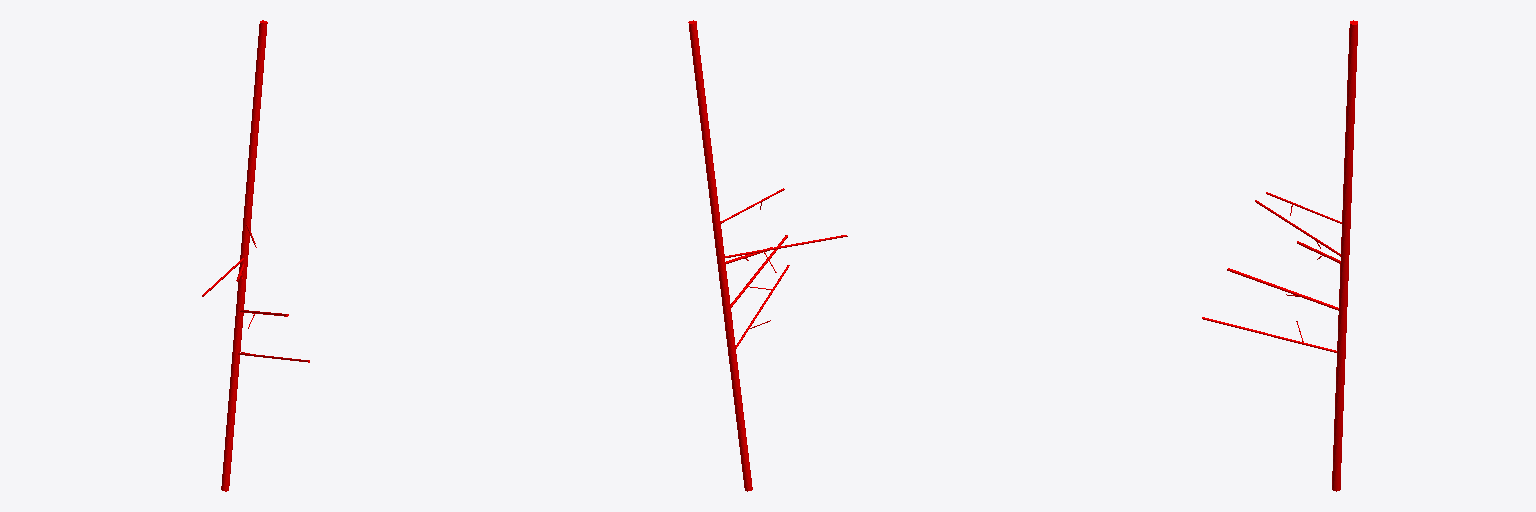
URDF robot description (tree_166.urdf):
<?xml version='1.0' encoding='UTF-8'?>
<robot name="tree_166.urdf">
  <link name="branch_0">
    <inertial>
      <origin xyz="0.0 0.0 0.0" rpy="0.0 -0.0 0.0"/>
      <mass value="0.1"/>
      <inertia ixx="0.001" ixy="0.0" ixz="0.0" iyy="0.001" iyz="0.0" izz="0.001"/>
    </inertial>
    <visual name="branch_0_visual">
      <geometry>
        <cylinder radius="0.08119482441836355" length="10.162189569916908"/>
      </geometry>
      <material name="semantic_material"/>
      <origin xyz="0.5473779555879732 0.16656126865366477 5.048777964146652" rpy="-6.638366721406252e-18 0.11284468723461562 0.2953872946657163"/>
    </visual>
    <collision name="branch_0_collision">
      <geometry>
        <cylinder radius="0.08119482441836355" length="10.162189569916908"/>
      </geometry>
      <origin xyz="0.5473779555879732 0.16656126865366477 5.048777964146652" rpy="-6.638366721406252e-18 0.11284468723461562 0.2953872946657163"/>
    </collision>
  </link>
  <link name="branch_1">
    <inertial>
      <origin xyz="0.0 0.0 0.0" rpy="0.0 -0.0 0.0"/>
      <mass value="0.1"/>
      <inertia ixx="0.001" ixy="0.0" ixz="0.0" iyy="0.001" iyz="0.0" izz="0.001"/>
    </inertial>
    <visual name="branch_1_visual">
      <geometry>
        <cylinder radius="0.028346276795149148" length="1.1056990333317804"/>
      </geometry>
      <material name="semantic_material"/>
      <origin xyz="0.0 0.0 0.0" rpy="0.0 -0.0 0.0"/>
    </visual>
    <collision name="branch_1_collision">
      <geometry>
        <cylinder radius="0.028346276795149148" length="1.1056990333317804"/>
      </geometry>
      <origin xyz="0.0 0.0 0.0" rpy="0.0 -0.0 0.0"/>
    </collision>
  </link>
  <link name="branch_2">
    <inertial>
      <origin xyz="0.0 0.0 0.0" rpy="0.0 -0.0 0.0"/>
      <mass value="0.1"/>
      <inertia ixx="0.001" ixy="0.0" ixz="0.0" iyy="0.001" iyz="0.0" izz="0.001"/>
    </inertial>
    <visual name="branch_2_visual">
      <geometry>
        <cylinder radius="0.01" length="0.1666999080371848"/>
      </geometry>
      <material name="semantic_material"/>
      <origin xyz="0.0 0.0 0.0" rpy="0.0 -0.0 0.0"/>
    </visual>
    <collision name="branch_2_collision">
      <geometry>
        <cylinder radius="0.01" length="0.1666999080371848"/>
      </geometry>
      <origin xyz="0.0 0.0 0.0" rpy="0.0 -0.0 0.0"/>
    </collision>
  </link>
  <link name="branch_3">
    <inertial>
      <origin xyz="0.0 0.0 0.0" rpy="0.0 -0.0 0.0"/>
      <mass value="0.1"/>
      <inertia ixx="0.001" ixy="0.0" ixz="0.0" iyy="0.001" iyz="0.0" izz="0.001"/>
    </inertial>
    <visual name="branch_3_visual">
      <geometry>
        <cylinder radius="0.028069722560075516" length="2.296371113001213"/>
      </geometry>
      <material name="semantic_material"/>
      <origin xyz="0.0 0.0 0.0" rpy="0.0 -0.0 0.0"/>
    </visual>
    <collision name="branch_3_collision">
      <geometry>
        <cylinder radius="0.028069722560075516" length="2.296371113001213"/>
      </geometry>
      <origin xyz="0.0 0.0 0.0" rpy="0.0 -0.0 0.0"/>
    </collision>
  </link>
  <link name="branch_4">
    <inertial>
      <origin xyz="0.0 0.0 0.0" rpy="0.0 -0.0 0.0"/>
      <mass value="0.1"/>
      <inertia ixx="0.001" ixy="0.0" ixz="0.0" iyy="0.001" iyz="0.0" izz="0.001"/>
    </inertial>
    <visual name="branch_4_visual">
      <geometry>
        <cylinder radius="0.01" length="0.5282364813976905"/>
      </geometry>
      <material name="semantic_material"/>
      <origin xyz="0.0 0.0 0.0" rpy="0.0 -0.0 0.0"/>
    </visual>
    <collision name="branch_4_collision">
      <geometry>
        <cylinder radius="0.01" length="0.5282364813976905"/>
      </geometry>
      <origin xyz="0.0 0.0 0.0" rpy="0.0 -0.0 0.0"/>
    </collision>
  </link>
  <link name="branch_5">
    <inertial>
      <origin xyz="0.0 0.0 0.0" rpy="0.0 -0.0 0.0"/>
      <mass value="0.1"/>
      <inertia ixx="0.001" ixy="0.0" ixz="0.0" iyy="0.001" iyz="0.0" izz="0.001"/>
    </inertial>
    <visual name="branch_5_visual">
      <geometry>
        <cylinder radius="0.019411540092503184" length="1.6714939882122033"/>
      </geometry>
      <material name="semantic_material"/>
      <origin xyz="0.0 0.0 0.0" rpy="0.0 -0.0 0.0"/>
    </visual>
    <collision name="branch_5_collision">
      <geometry>
        <cylinder radius="0.019411540092503184" length="1.6714939882122033"/>
      </geometry>
      <origin xyz="0.0 0.0 0.0" rpy="0.0 -0.0 0.0"/>
    </collision>
  </link>
  <link name="branch_6">
    <inertial>
      <origin xyz="0.0 0.0 0.0" rpy="0.0 -0.0 0.0"/>
      <mass value="0.1"/>
      <inertia ixx="0.001" ixy="0.0" ixz="0.0" iyy="0.001" iyz="0.0" izz="0.001"/>
    </inertial>
    <visual name="branch_6_visual">
      <geometry>
        <cylinder radius="0.01" length="0.24577685292386356"/>
      </geometry>
      <material name="semantic_material"/>
      <origin xyz="0.0 0.0 0.0" rpy="0.0 -0.0 0.0"/>
    </visual>
    <collision name="branch_6_collision">
      <geometry>
        <cylinder radius="0.01" length="0.24577685292386356"/>
      </geometry>
      <origin xyz="0.0 0.0 0.0" rpy="0.0 -0.0 0.0"/>
    </collision>
  </link>
  <link name="branch_7">
    <inertial>
      <origin xyz="0.0 0.0 0.0" rpy="0.0 -0.0 0.0"/>
      <mass value="0.1"/>
      <inertia ixx="0.001" ixy="0.0" ixz="0.0" iyy="0.001" iyz="0.0" izz="0.001"/>
    </inertial>
    <visual name="branch_7_visual">
      <geometry>
        <cylinder radius="0.0223000591339471" length="2.5629545331774133"/>
      </geometry>
      <material name="semantic_material"/>
      <origin xyz="0.0 0.0 0.0" rpy="0.0 -0.0 0.0"/>
    </visual>
    <collision name="branch_7_collision">
      <geometry>
        <cylinder radius="0.0223000591339471" length="2.5629545331774133"/>
      </geometry>
      <origin xyz="0.0 0.0 0.0" rpy="0.0 -0.0 0.0"/>
    </collision>
  </link>
  <link name="branch_8">
    <inertial>
      <origin xyz="0.0 0.0 0.0" rpy="0.0 -0.0 0.0"/>
      <mass value="0.1"/>
      <inertia ixx="0.001" ixy="0.0" ixz="0.0" iyy="0.001" iyz="0.0" izz="0.001"/>
    </inertial>
    <visual name="branch_8_visual">
      <geometry>
        <cylinder radius="0.01" length="0.5224922220670122"/>
      </geometry>
      <material name="semantic_material"/>
      <origin xyz="0.0 0.0 0.0" rpy="0.0 -0.0 0.0"/>
    </visual>
    <collision name="branch_8_collision">
      <geometry>
        <cylinder radius="0.01" length="0.5224922220670122"/>
      </geometry>
      <origin xyz="0.0 0.0 0.0" rpy="0.0 -0.0 0.0"/>
    </collision>
  </link>
  <link name="branch_9">
    <inertial>
      <origin xyz="0.0 0.0 0.0" rpy="0.0 -0.0 0.0"/>
      <mass value="0.1"/>
      <inertia ixx="0.001" ixy="0.0" ixz="0.0" iyy="0.001" iyz="0.0" izz="0.001"/>
    </inertial>
    <visual name="branch_9_visual">
      <geometry>
        <cylinder radius="0.02254271265771595" length="2.730620260648037"/>
      </geometry>
      <material name="semantic_material"/>
      <origin xyz="0.0 0.0 0.0" rpy="0.0 -0.0 0.0"/>
    </visual>
    <collision name="branch_9_collision">
      <geometry>
        <cylinder radius="0.02254271265771595" length="2.730620260648037"/>
      </geometry>
      <origin xyz="0.0 0.0 0.0" rpy="0.0 -0.0 0.0"/>
    </collision>
  </link>
  <link name="branch_10">
    <inertial>
      <origin xyz="0.0 0.0 0.0" rpy="0.0 -0.0 0.0"/>
      <mass value="0.1"/>
      <inertia ixx="0.001" ixy="0.0" ixz="0.0" iyy="0.001" iyz="0.0" izz="0.001"/>
    </inertial>
    <visual name="branch_10_visual">
      <geometry>
        <cylinder radius="0.01" length="0.5438606289585335"/>
      </geometry>
      <material name="semantic_material"/>
      <origin xyz="0.0 0.0 0.0" rpy="0.0 -0.0 0.0"/>
    </visual>
    <collision name="branch_10_collision">
      <geometry>
        <cylinder radius="0.01" length="0.5438606289585335"/>
      </geometry>
      <origin xyz="0.0 0.0 0.0" rpy="0.0 -0.0 0.0"/>
    </collision>
  </link>
  <joint name="joint_0_1" type="fixed">
    <parent link="branch_0"/>
    <child link="branch_1"/>
    <axis xyz="1. 0. 0."/>
    <origin xyz="0.20270872217773342 -0.28026833630381043 4.943317458898248" rpy="-0.46198680050584817 1.4205984536647798 -2.6728243475410207"/>
  </joint>
  <joint name="joint_0_3" type="fixed">
    <parent link="branch_0"/>
    <child link="branch_3"/>
    <axis xyz="1. 0. 0."/>
    <origin xyz="0.3571100309865385 -0.9473178037442277 4.26154591815231" rpy="-0.29102698817746186 1.1992267610844445 -1.939104726794196"/>
  </joint>
  <joint name="joint_0_5" type="fixed">
    <parent link="branch_0"/>
    <child link="branch_5"/>
    <axis xyz="1. 0. 0."/>
    <origin xyz="0.280196955590305 -0.5554095610209295 5.890785381900537" rpy="-0.3867522964814163 1.3481343295117594 -2.3948852811977748"/>
  </joint>
  <joint name="joint_0_7" type="fixed">
    <parent link="branch_0"/>
    <child link="branch_7"/>
    <axis xyz="1. 0. 0."/>
    <origin xyz="-0.423249346610902 -0.666367747972299 5.138725978202782" rpy="-0.40407032682153804 1.4555973239290037 -2.8372480989998263"/>
  </joint>
  <joint name="joint_0_9" type="fixed">
    <parent link="branch_0"/>
    <child link="branch_9"/>
    <axis xyz="1. 0. 0."/>
    <origin xyz="0.4244562124909919 -1.200838488049101 3.3567196183172188" rpy="-0.3486637459589583 1.2455561772488533 -1.8564087913348408"/>
  </joint>
  <joint name="joint_1_2" type="fixed">
    <parent link="branch_0"/>
    <child link="branch_2"/>
    <axis xyz="1. 0. 0."/>
    <origin xyz="0.22053467017110137 -0.2886067577049713 4.876201047874642" rpy="2.767740338808737 0.7051600248427125 0.7254364629319743"/>
  </joint>
  <joint name="joint_3_4" type="fixed">
    <parent link="branch_0"/>
    <child link="branch_4"/>
    <axis xyz="1. 0. 0."/>
    <origin xyz="0.19272946401784366 -0.7484011276875696 4.0594359769553074" rpy="-1.8701588505712967 0.6401300612396997 2.1489631058935426"/>
  </joint>
  <joint name="joint_5_6" type="fixed">
    <parent link="branch_0"/>
    <child link="branch_6"/>
    <axis xyz="1. 0. 0."/>
    <origin xyz="0.19868508863998025 -0.8322325952061492 5.833988045998244" rpy="2.804474243341965 0.04624078102432235 1.199277484295415"/>
  </joint>
  <joint name="joint_7_8" type="fixed">
    <parent link="branch_0"/>
    <child link="branch_8"/>
    <axis xyz="1. 0. 0."/>
    <origin xyz="-0.285224433624303 -0.33837388271603835 4.912729694572924" rpy="-2.400849696817571 0.34566081186891684 0.9238210729719227"/>
  </joint>
  <joint name="joint_9_10" type="fixed">
    <parent link="branch_0"/>
    <child link="branch_10"/>
    <axis xyz="1. 0. 0."/>
    <origin xyz="0.14421802632160013 -0.669611551030281 3.2947378519343187" rpy="-1.0804779885499691 0.16988369364195052 1.9321588270504064"/>
  </joint>
  <material name="semantic_material">
    <color rgba="1. 0. 0. 1."/>
  </material>
</robot>

--- Facts derived from the render (not from the file) ---
3 views of the same robot in one strip: view 1: azimuth 30°, elevation 25°; view 2: azimuth 150°, elevation 25°; view 3: azimuth 270°, elevation 25° (orthographic).
Robot: tree_166.urdf — 11 links, 10 joints (10 fixed); root link branch_0; default pose: every joint at zero.
Links seen in each view (by area): view 1: branch_0; view 2: branch_0; view 3: branch_0.
Link boxes in pixels (box(x1,y1,x2,y2)): branch_0: box(221, 20, 267, 491); branch_0: box(688, 20, 752, 491); branch_0: box(1332, 20, 1357, 491).
Bounding box of the posed robot: 2.58 × 2.92 × 10.12 m (x, y, z).
Geometry: primitives only (box / cylinder / sphere), no mesh files.
